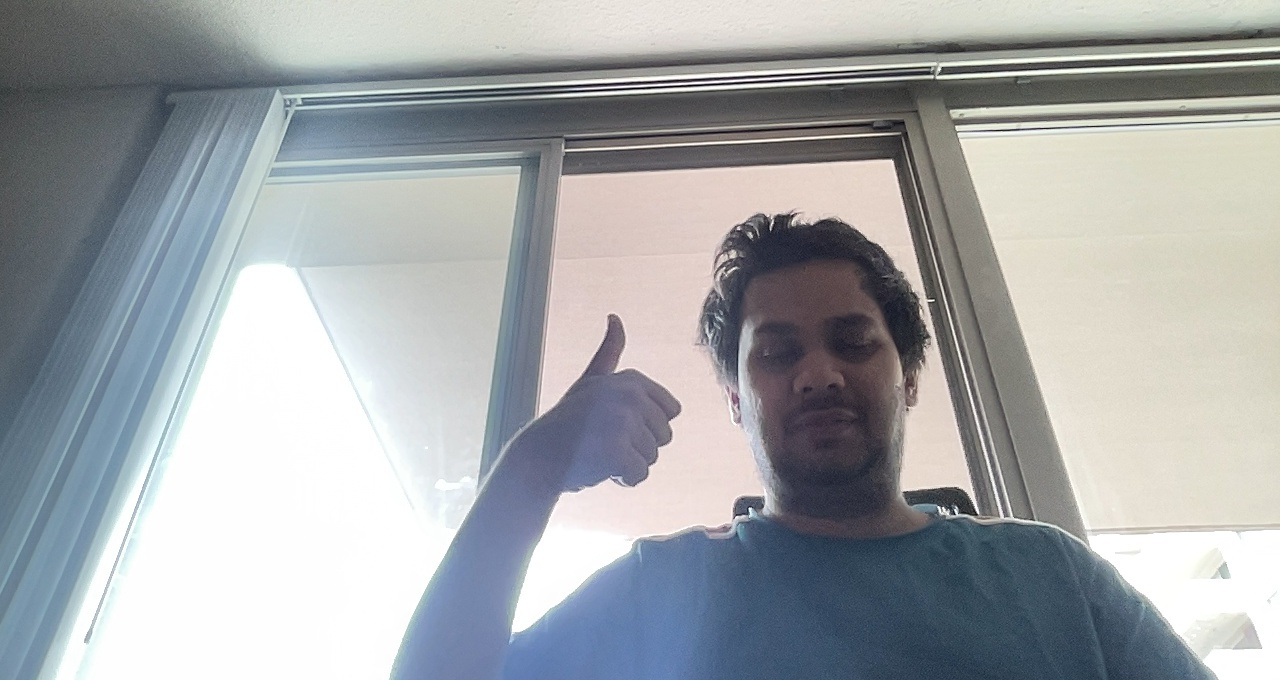thumbsup: (557, 309, 688, 496)
